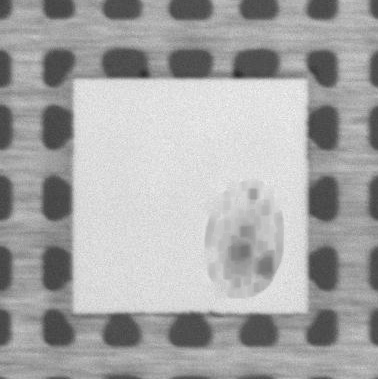DIE_INK: (206, 185, 285, 294)
